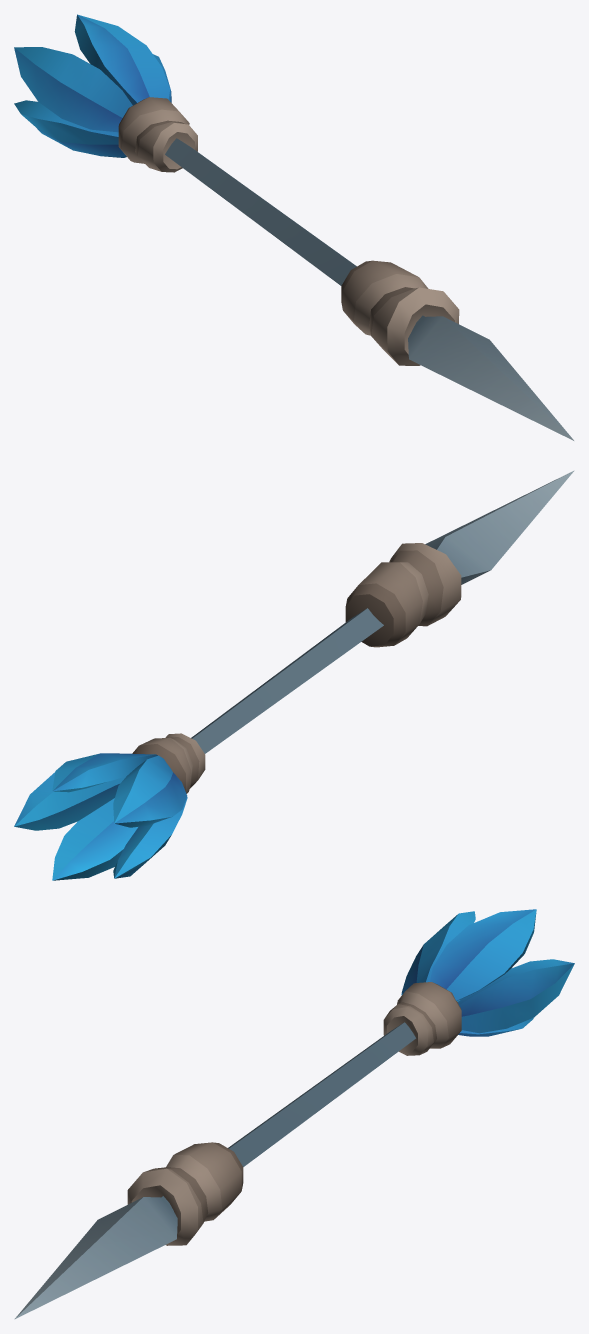
File: arrow_B.glb
3 views of the same model, one above another, from view 1: azimuth 30°, elevation 25°; view 2: azimuth 150°, elevation 25°; view 3: azimuth 330°, elevation 25° (orthographic).
Visible parts, largest first — view 1: arrow_B; view 2: arrow_B; view 3: arrow_B.
Part boxes in pixels (left/top/right/bottom): arrow_B: left=14, top=14, right=573, bottom=440; arrow_B: left=14, top=470, right=574, bottom=880; arrow_B: left=14, top=909, right=574, bottom=1319.
Bounding box in the file's own units: 0.1775 × 0.1483 × 1.26.
1 material, 1 textured.
